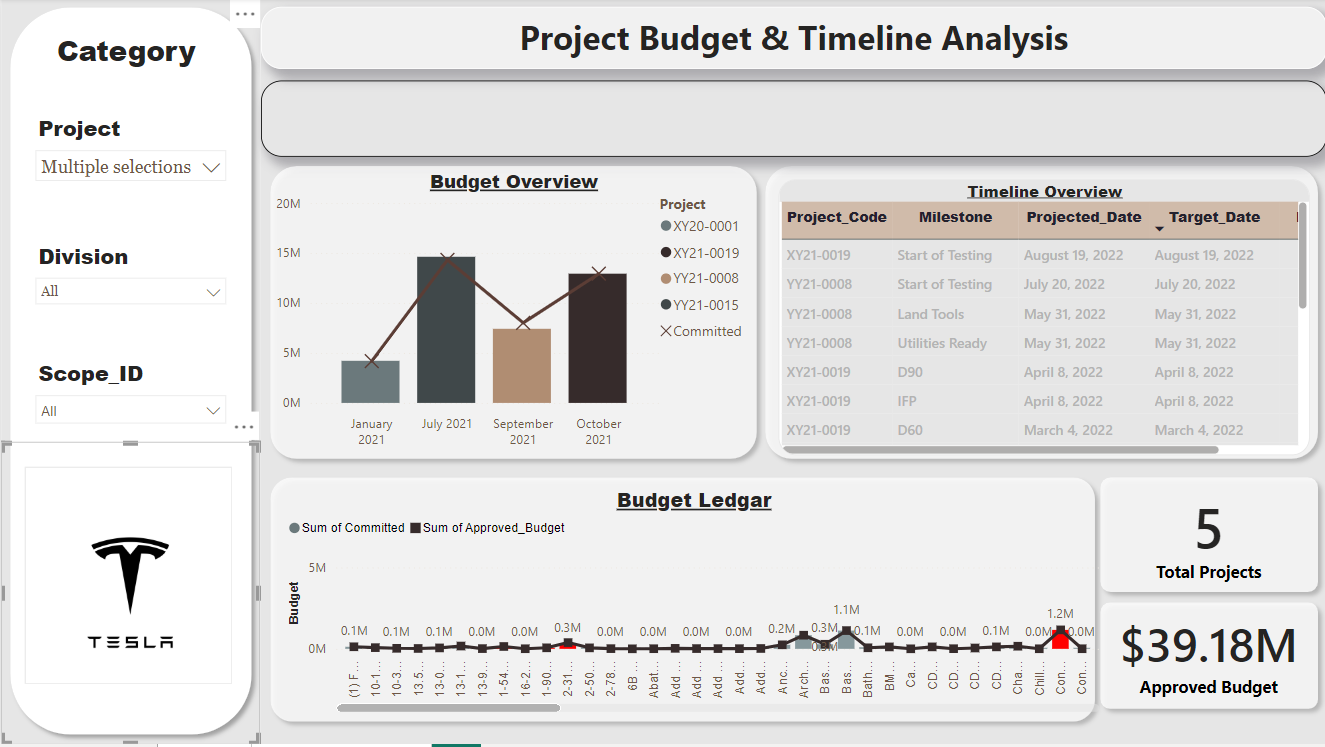

This screenshot's page, from the dashboard's own definition file:
{"tool":"powerbi","page":{"name":"Test_Module","canvas":[1280,720],"ordinal":0},"visuals":[{"type":"textbox","box":[250.9,8.4,1029.1,60.3],"z":0},{"type":"shape","box":[0,0,250.9,719.8],"z":1000},{"type":"shape","box":[250.9,453.3,813.9,253.7],"z":2000},{"type":"shape","box":[728.7,153.2,551.3,300.4],"z":3000},{"type":"shape","box":[1051.9,453.6,228.1,128.7],"z":4000},{"type":"slicer","fields":{"Values":["Project.Project_Code"]},"box":[23.3,105.7,204.5,96.1],"z":5000},{"type":"shape","box":[250.9,153.2,487.4,300.4],"z":5000,"group":"g1"},{"type":"slicer","fields":{"Values":["Transformed_Project_budget.Division"]},"box":[23.3,229.2,204.5,170.2],"z":6000},{"type":"image","box":[0,428.3,249.7,292],"z":7000},{"type":"cardVisual","fields":{"Data":["Project.Project_Manager","Project.Design_Manager","Project.Working_Team"]},"box":[250.9,79.6,1029.1,73.6],"z":8000},{"type":"textbox","box":[39.8,26.1,161.9,53.5],"z":9000},{"type":"group","id":"g1","title":"Group 1","box":[250.9,153.2,487.4,300.4],"z":10000},{"type":"lineClusteredColumnComboChart","title":"Budget Ledgar","fields":{"Category":["Project.Project_Code","Transformed_Project_budget.Scope"],"Y":["Sum(Transformed_Project_committed.Committed)"],"Y2":["Sum(Transformed_Project_budget.Approved_Budget)"]},"box":[272.2,470.4,792.5,223.8],"z":11000},{"type":"tableEx","title":"Timeline Overview","fields":{"Values":["Project.Project_Code","Milestone.Milestone","Milestone.Projected_Date","Milestone.Target_Date","Milestone.KPI 1"]},"box":[750.4,174.9,512.7,266.6],"z":12000},{"type":"slicer","fields":{"Values":["Transformed_Project_budget.Scope_ID"]},"box":[22.5,342.2,204.3,151.2],"z":13000},{"type":"actionButton","box":[23.3,452.8,200.3,209.9],"z":14000},{"type":"lineStackedColumnComboChart","title":"Budget Overview","fields":{"Category":["Project.Start_Date"],"Series":["Project.Project_Code"],"Y":["Sum(Transformed_Project_budget.Approved_Budget)"],"Y2":["Sum(Transformed_Project_committed.Committed)"]},"box":[260.1,163.8,469.1,277.9],"z":14006,"group":"g1"},{"type":"shape","box":[1052,574.3,228,132.7],"z":15000},{"type":"card","fields":{"Values":["Sum(Transformed_Project_budget.Approved_Budget)"]},"box":[1069.1,574.3,193.7,118.1],"z":16000},{"type":"card","fields":{"Values":["CountNonNull(Project.Project_ID)"]},"box":[1069.1,462.9,193.7,111.4],"z":17000}]}

Visuals, with their boxes in screenshot pixels (x1, y1, x2, y2), scaled from the page's 1280x720 canvas onto the 1325x747 screenshot:
textbox: pyautogui.locateOnScreen(260, 9, 1324, 71)
shape: pyautogui.locateOnScreen(0, 0, 260, 746)
shape: pyautogui.locateOnScreen(260, 470, 1102, 734)
shape: pyautogui.locateOnScreen(754, 159, 1324, 471)
shape: pyautogui.locateOnScreen(1089, 471, 1324, 604)
slicer - Project.Project_Code: pyautogui.locateOnScreen(24, 110, 236, 209)
shape: pyautogui.locateOnScreen(260, 159, 764, 471)
slicer - Transformed_Project_budget.Division: pyautogui.locateOnScreen(24, 238, 236, 414)
image: pyautogui.locateOnScreen(0, 444, 258, 746)
cardVisual - Project.Project_Manager x Project.Design_Manager: pyautogui.locateOnScreen(260, 83, 1324, 159)
textbox: pyautogui.locateOnScreen(41, 27, 209, 83)
"Group 1" group: pyautogui.locateOnScreen(260, 159, 764, 471)
"Budget Ledgar" lineClusteredColumnComboChart: pyautogui.locateOnScreen(282, 488, 1102, 720)
"Timeline Overview" tableEx: pyautogui.locateOnScreen(777, 181, 1308, 458)
slicer - Transformed_Project_budget.Scope_ID: pyautogui.locateOnScreen(23, 355, 235, 512)
actionButton: pyautogui.locateOnScreen(24, 470, 231, 688)
"Budget Overview" lineStackedColumnComboChart: pyautogui.locateOnScreen(269, 170, 755, 458)
shape: pyautogui.locateOnScreen(1089, 596, 1324, 734)
card - Sum(Transformed_Project_budget.Approved_Budget): pyautogui.locateOnScreen(1107, 596, 1307, 718)
card - CountNonNull(Project.Project_ID): pyautogui.locateOnScreen(1107, 480, 1307, 596)
